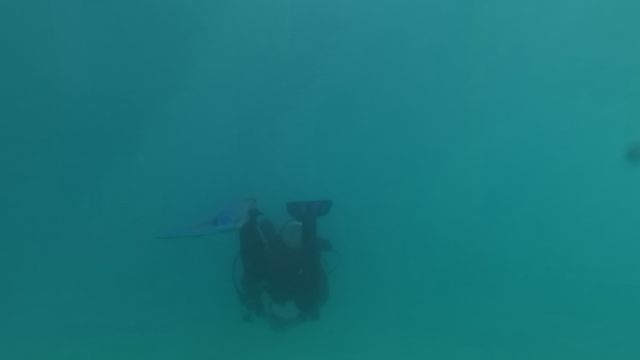Diver: (231, 200, 340, 316)
